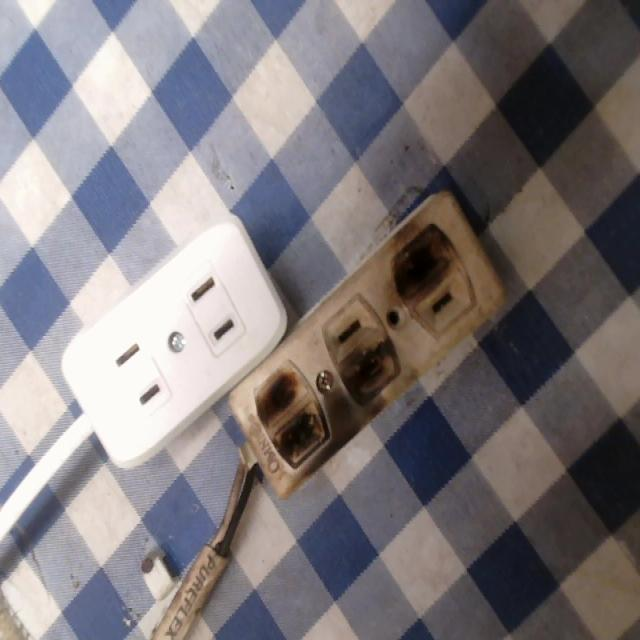-: (249, 363, 328, 477), (386, 221, 450, 300), (335, 334, 401, 406)
